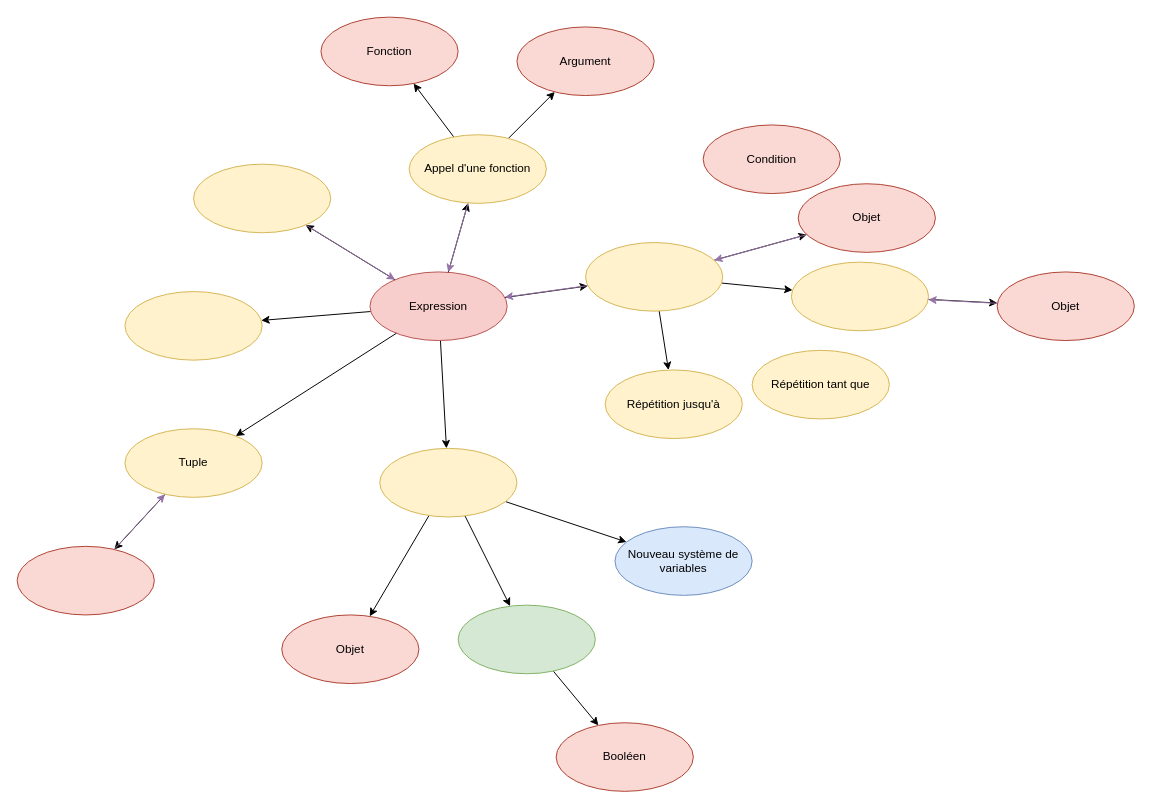
This 1152x809 diagram has some shape labels left out. The shapes that lost their labels are listed below. From the top down, each one's centre as x and y in pixels, then its label:
the point at 262,198: Symbole
the point at 654,276: Structure conditionnelle
the point at 859,296: Alternative
the point at 193,325: Propriété
the point at 448,482: Définition d'une fonction
the point at 85,580: Objet[]
the point at 526,639: Filtre (tel que ...)
